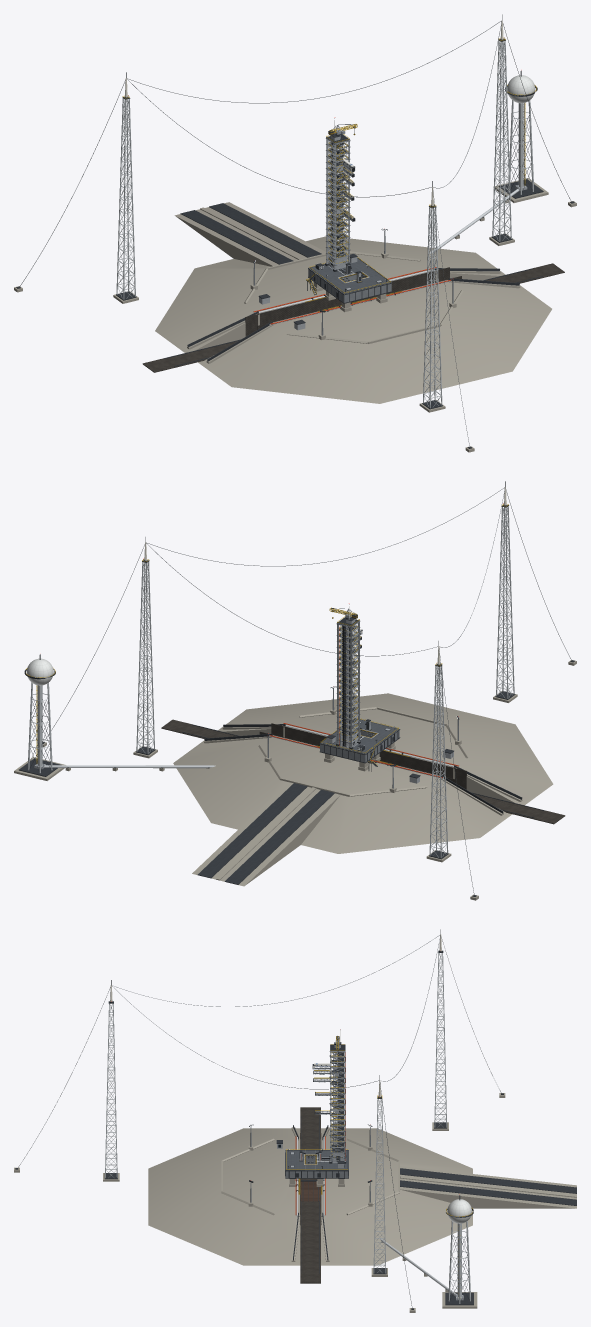
The model's file is lc39b_sls.glb.
3 renders of one model, top to bottom at view 1: azimuth 30°, elevation 25°; view 2: azimuth 150°, elevation 25°; view 3: azimuth 270°, elevation 25°, orthographic. The views are drawn at different scales.
Visible parts, largest first — view 1: PAD, LIGHTNING, TOWER, WATER, ML; view 2: PAD, LIGHTNING, TOWER, WATER, ML; view 3: PAD, LIGHTNING, WATER, TOWER, ML.
Boxes of the visible parts, x1=… form: PAD: x1=142, y1=202, x2=564, y2=403; LIGHTNING: x1=14, y1=14, x2=576, y2=452; TOWER: x1=325, y1=117, x2=357, y2=271; WATER: x1=428, y1=70, x2=548, y2=253; ML: x1=306, y1=253, x2=392, y2=312; PAD: x1=161, y1=686, x2=565, y2=886; LIGHTNING: x1=42, y1=481, x2=576, y2=900; TOWER: x1=329, y1=603, x2=360, y2=749; WATER: x1=14, y1=654, x2=215, y2=780; ML: x1=319, y1=717, x2=400, y2=771; PAD: x1=148, y1=1107, x2=576, y2=1283; LIGHTNING: x1=14, y1=929, x2=505, y2=1312; WATER: x1=380, y1=1194, x2=477, y2=1308; TOWER: x1=329, y1=1029, x2=346, y2=1163; ML: x1=285, y1=1148, x2=348, y2=1186.
Size of the model in its own units: 48.31 by 20.95 by 52.85.
Materials: 25 (14 with a texture image).
